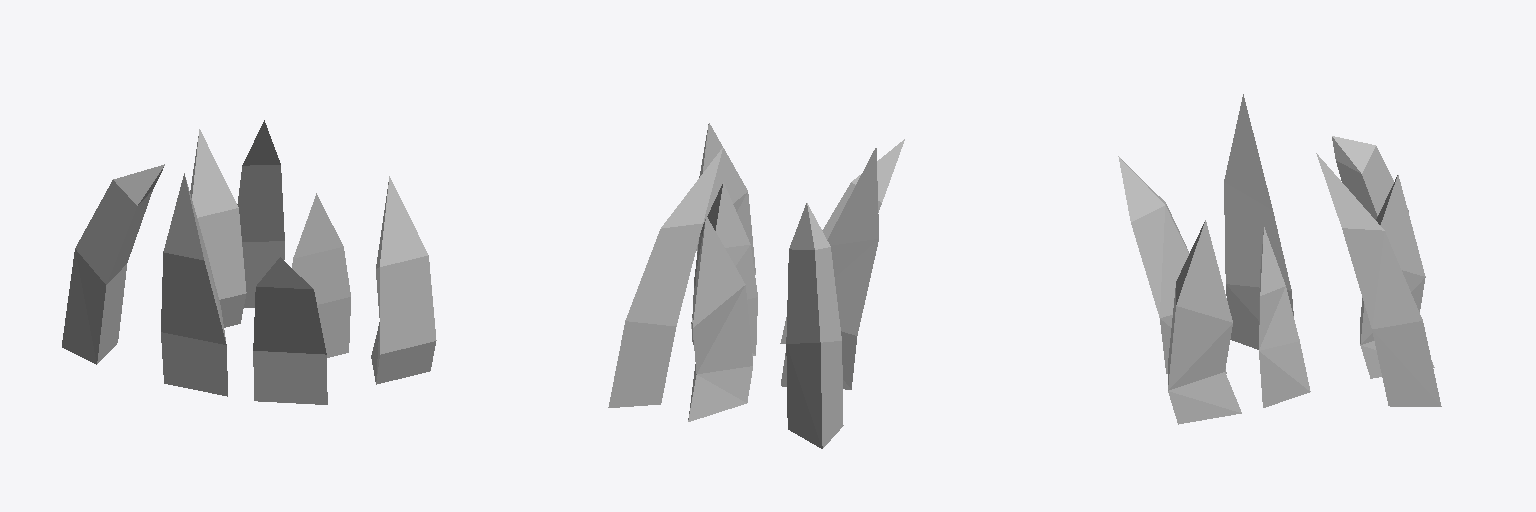
File: GrassBunch1.obj
3 renders of one model, left to right at view 1: azimuth 30°, elevation 25°; view 2: azimuth 150°, elevation 25°; view 3: azimuth 270°, elevation 25°, orthographic.
Parts seen in each view (by area): view 1: GrassBunch1_Circle.022; view 2: GrassBunch1_Circle.022; view 3: GrassBunch1_Circle.022.
Boxes of the visible parts, x1=… form: GrassBunch1_Circle.022: x1=62, y1=120, x2=436, y2=404; GrassBunch1_Circle.022: x1=608, y1=123, x2=904, y2=448; GrassBunch1_Circle.022: x1=1118, y1=94, x2=1441, y2=424.
Size of the model in its own units: 0.6275 by 0.5717 by 0.7057.